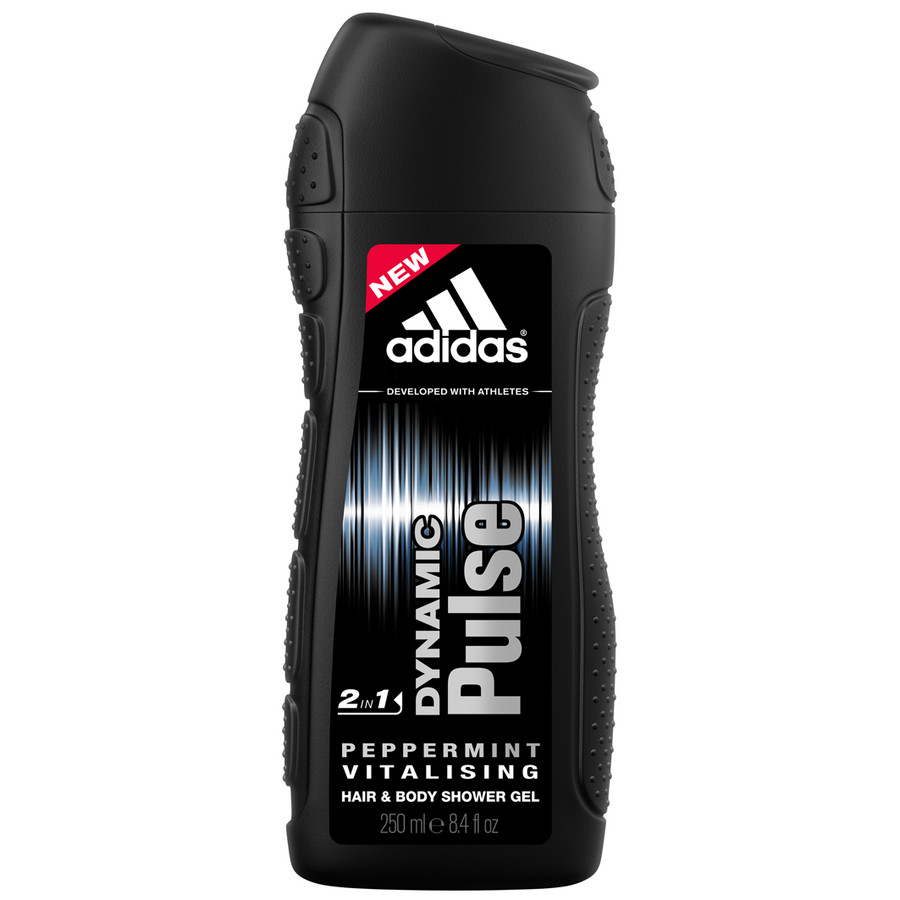Adidas: (387, 266, 530, 371)
